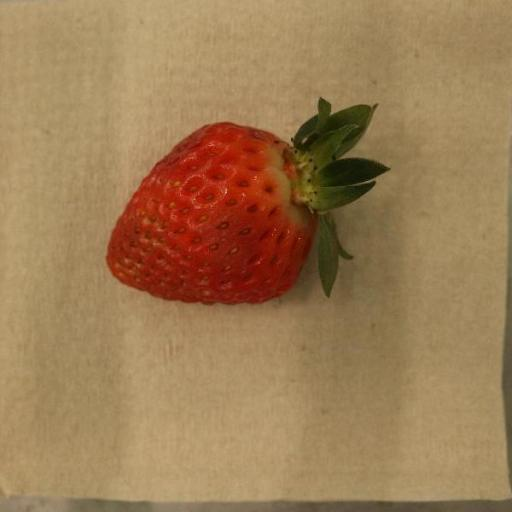Strawberry: (106, 99, 391, 305)
